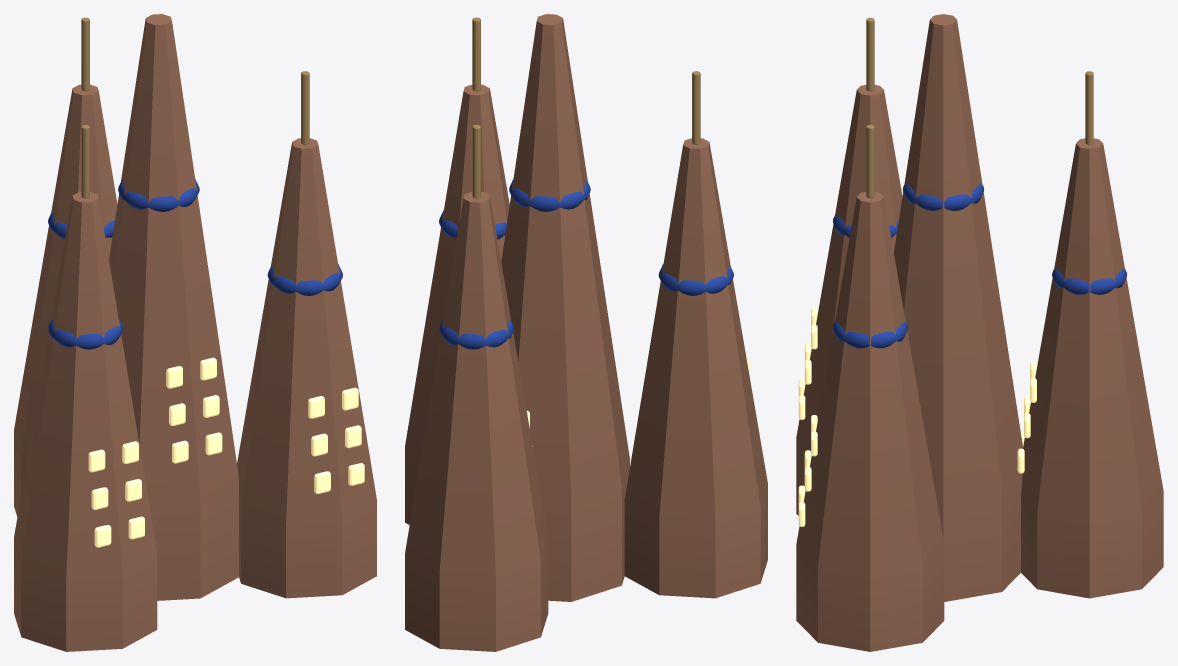
3 views of the same model, side by side, from view 1: azimuth 30°, elevation 25°; view 2: azimuth 150°, elevation 25°; view 3: azimuth 270°, elevation 25° (orthographic).
Visible parts, largest first — view 1: Tapered spire.003, Tapered spire.001, Tapered spire.002, Tapered spire, Spire collar.003, Spire collar.001, Spire collar.002, Aerial stem.001, Aerial stem, Aerial stem.002; view 2: Tapered spire.003, Tapered spire.001, Tapered spire, Tapered spire.002, Spire collar.003, Spire collar, Spire collar.001, Aerial stem.002, Aerial stem, Aerial stem.001; view 3: Tapered spire.003, Tapered spire.002, Tapered spire, Tapered spire.001, Spire collar.003, Spire collar.002, Spire collar, Aerial stem, Aerial stem.002, Aerial stem.001.
Boxes of the visible parts, x1,y1,x2,y2 form: Tapered spire.003: [109, 14, 238, 600]; Tapered spire.001: [14, 192, 157, 651]; Tapered spire.002: [237, 138, 376, 598]; Tapered spire: [14, 84, 117, 516]; Spire collar.003: [118, 179, 199, 211]; Spire collar.001: [48, 317, 123, 349]; Spire collar.002: [267, 264, 342, 295]; Aerial stem.001: [81, 124, 89, 198]; Aerial stem: [81, 17, 89, 91]; Aerial stem.002: [301, 71, 309, 144]; Tapered spire.003: [501, 14, 629, 601]; Tapered spire.001: [624, 138, 767, 598]; Tapered spire: [405, 192, 548, 651]; Tapered spire.002: [405, 84, 509, 524]; Spire collar.003: [509, 179, 590, 211]; Spire collar: [439, 317, 514, 349]; Spire collar.001: [658, 264, 733, 295]; Aerial stem.002: [472, 17, 480, 91]; Aerial stem: [472, 124, 480, 198]; Aerial stem.001: [692, 71, 700, 144]; Tapered spire.003: [894, 14, 1022, 601]; Tapered spire.002: [796, 192, 944, 651]; Tapered spire: [1021, 138, 1163, 598]; Tapered spire.001: [796, 85, 902, 515]; Spire collar.003: [902, 184, 983, 210]; Spire collar.002: [832, 322, 907, 348]; Spire collar: [1052, 268, 1127, 294]; Aerial stem: [1085, 71, 1093, 144]; Aerial stem.002: [866, 124, 874, 198]; Aerial stem.001: [866, 17, 874, 91].
Size of the model in its own units: 2.06 by 3.1 by 1.88.
